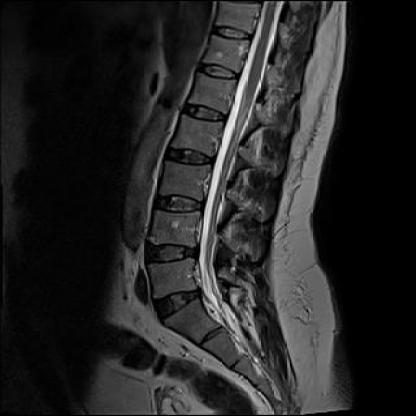Disc Bulgerotation: (142, 236, 205, 267), (149, 288, 210, 320)
